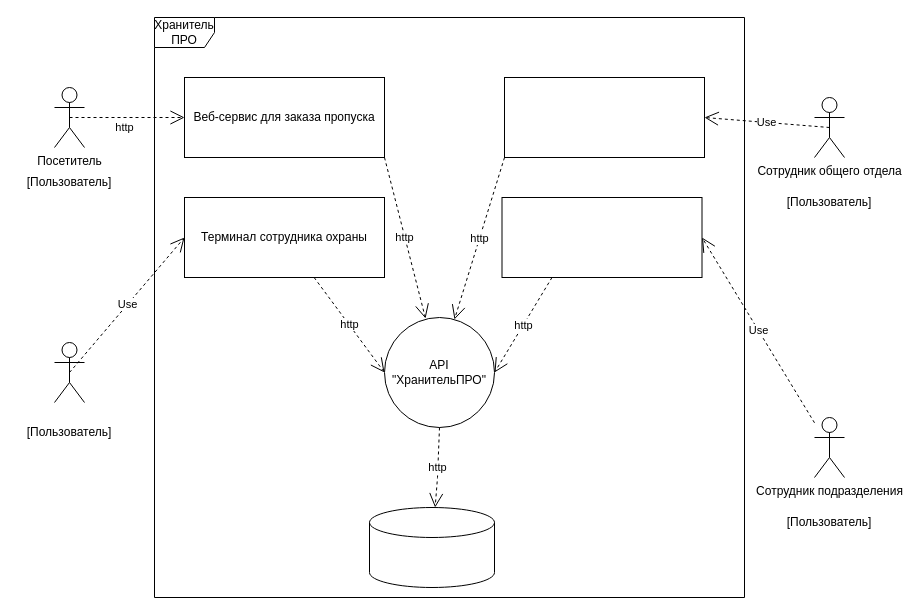
Image size: 920x615. Some labels were removed from this diagram. The centre of each missing label's shape, as x and y in pixels:
База данных: point 431,547
Сотрудник Охраны: point 69,372
Терминал сотрудника общего отдела: point 604,117
Терминал сотрудника подразделения: point 601,237
